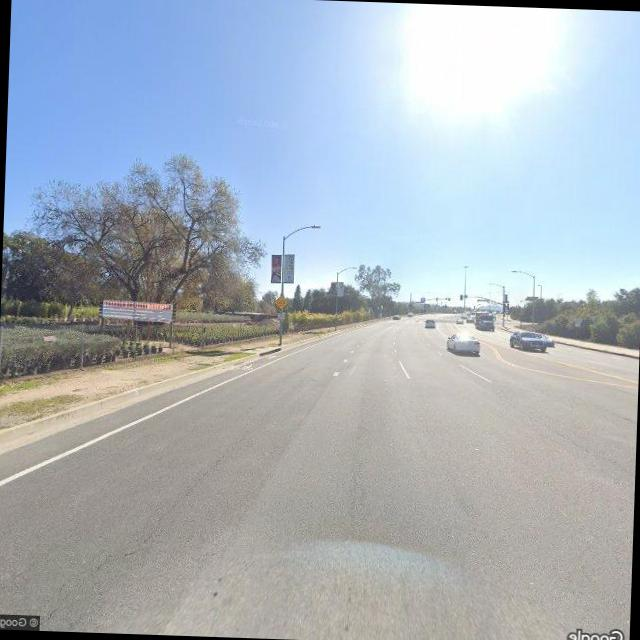crack: (45, 438, 228, 622)
